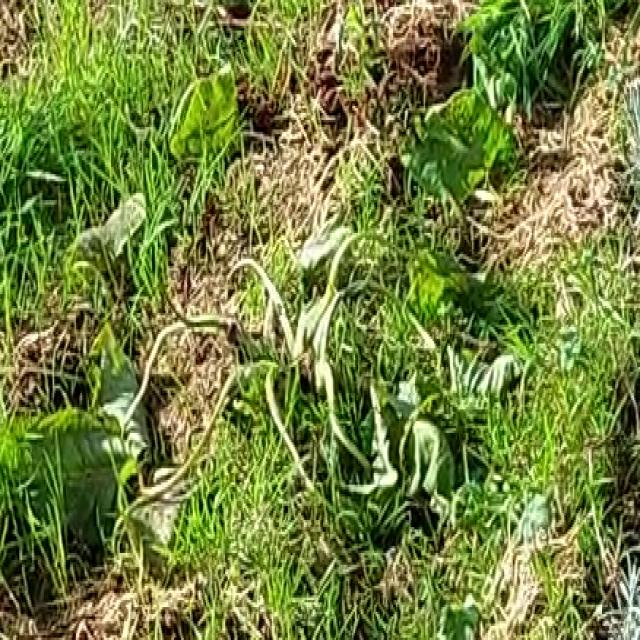organic waste: (4, 73, 592, 583)
